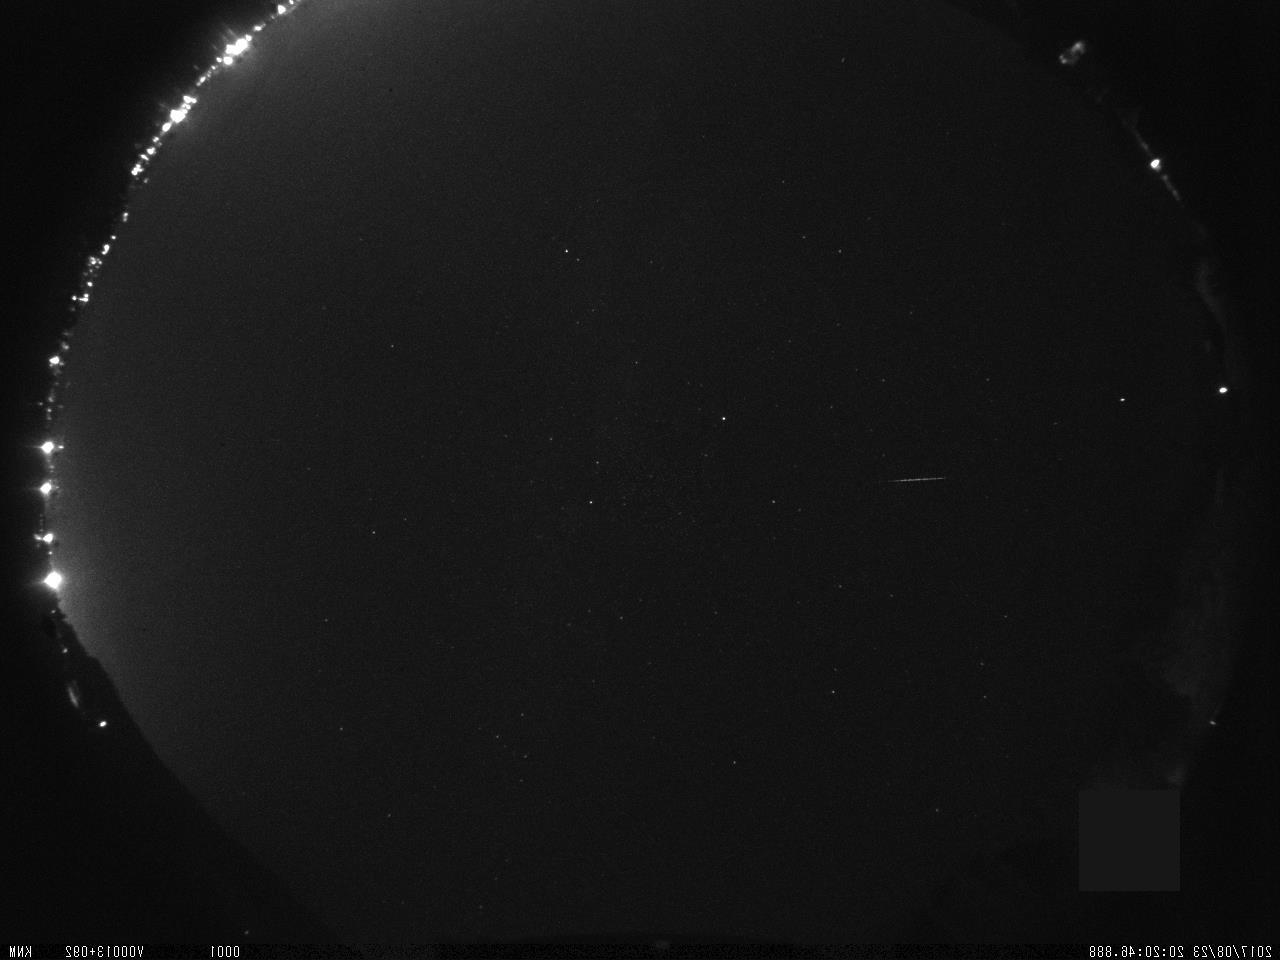meteor: (850, 458, 971, 499)
